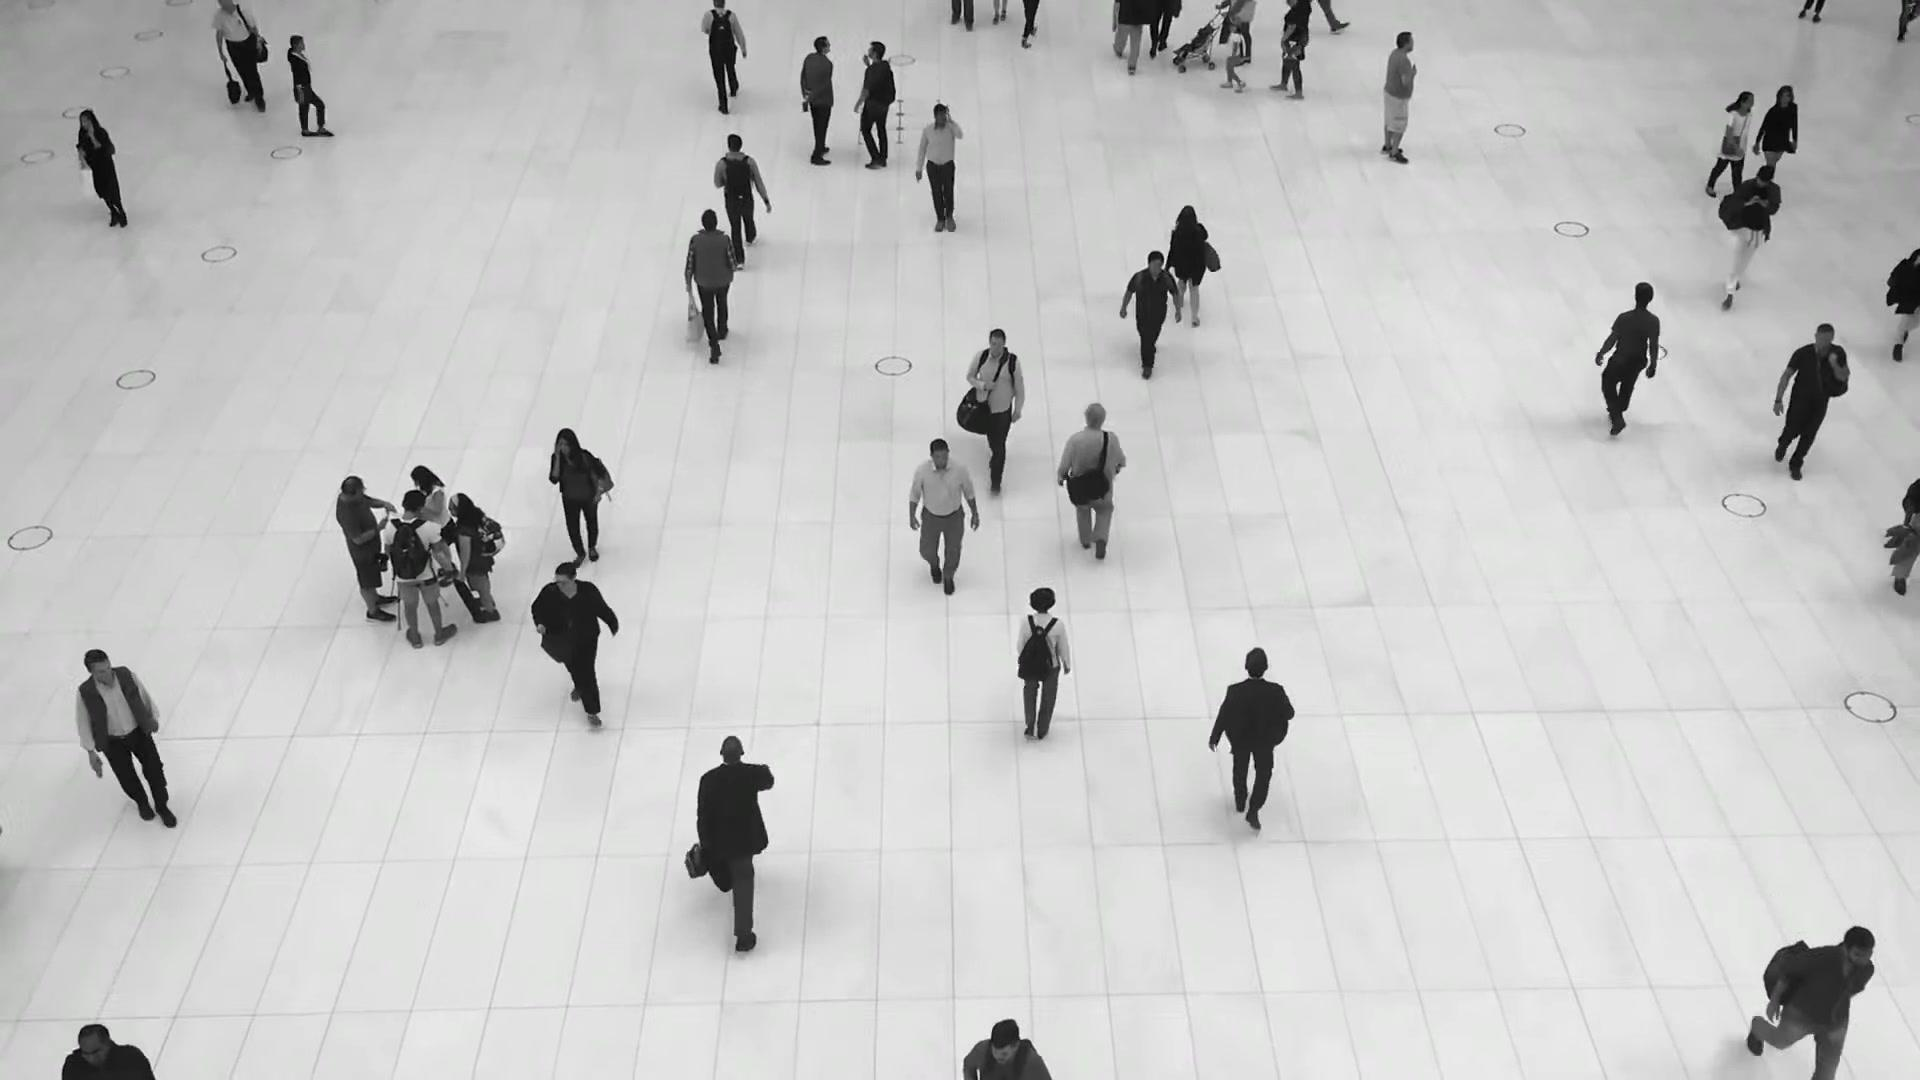person: (76, 654, 174, 843), (694, 732, 777, 931), (1211, 651, 1295, 844), (1771, 922, 1881, 1063), (533, 562, 617, 723), (1772, 327, 1849, 492), (383, 490, 458, 651), (1057, 404, 1127, 570), (906, 442, 976, 607), (1592, 283, 1661, 444), (335, 474, 400, 629), (1011, 590, 1069, 762), (1716, 162, 1782, 303), (968, 327, 1025, 487), (548, 430, 612, 571), (683, 206, 738, 355), (448, 492, 502, 624), (914, 105, 963, 237), (715, 131, 765, 258), (1126, 247, 1179, 368), (76, 108, 129, 229), (211, 0, 268, 110), (284, 35, 343, 138), (410, 465, 459, 589), (1165, 203, 1214, 318), (1707, 89, 1756, 198), (1380, 29, 1418, 165), (856, 40, 895, 170), (700, 0, 746, 110), (799, 36, 835, 166), (1754, 86, 1797, 177), (1277, 0, 1312, 99), (1218, 21, 1244, 93)
